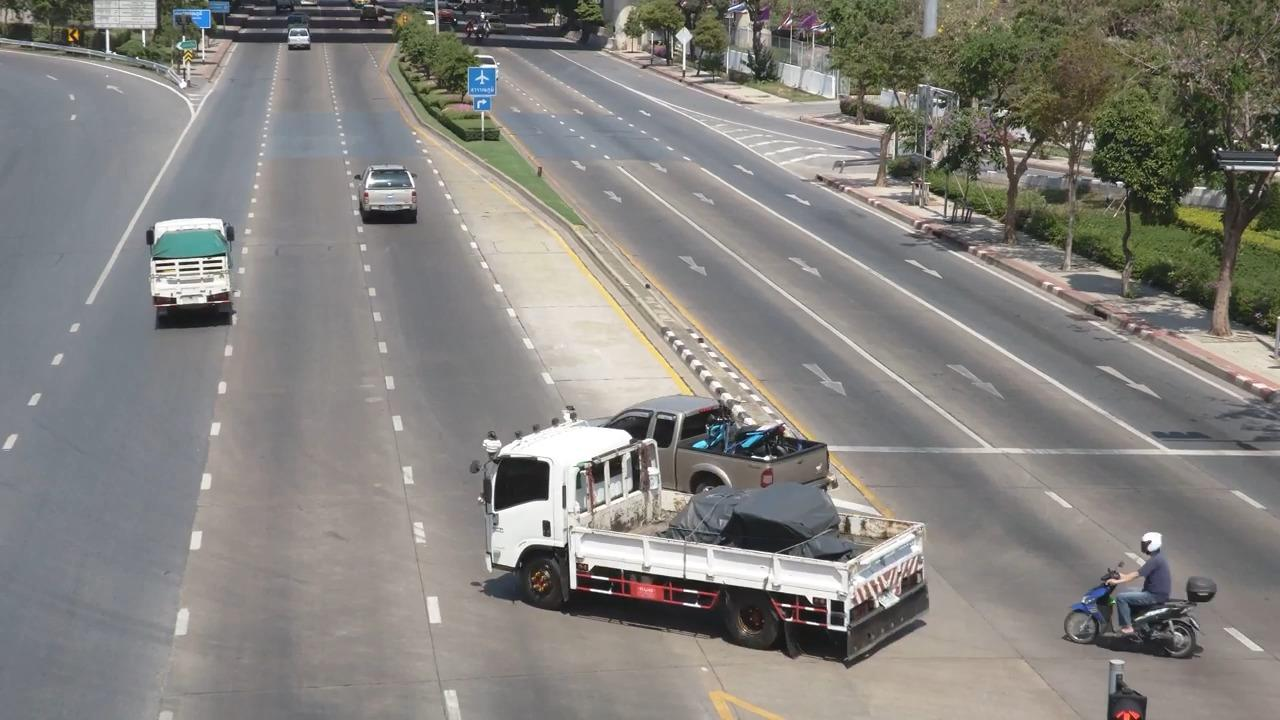CAR: (470, 422, 918, 675), (603, 391, 831, 493), (123, 205, 261, 355), (346, 153, 438, 243), (277, 27, 323, 62)
MOTOR: (1053, 497, 1230, 662)
